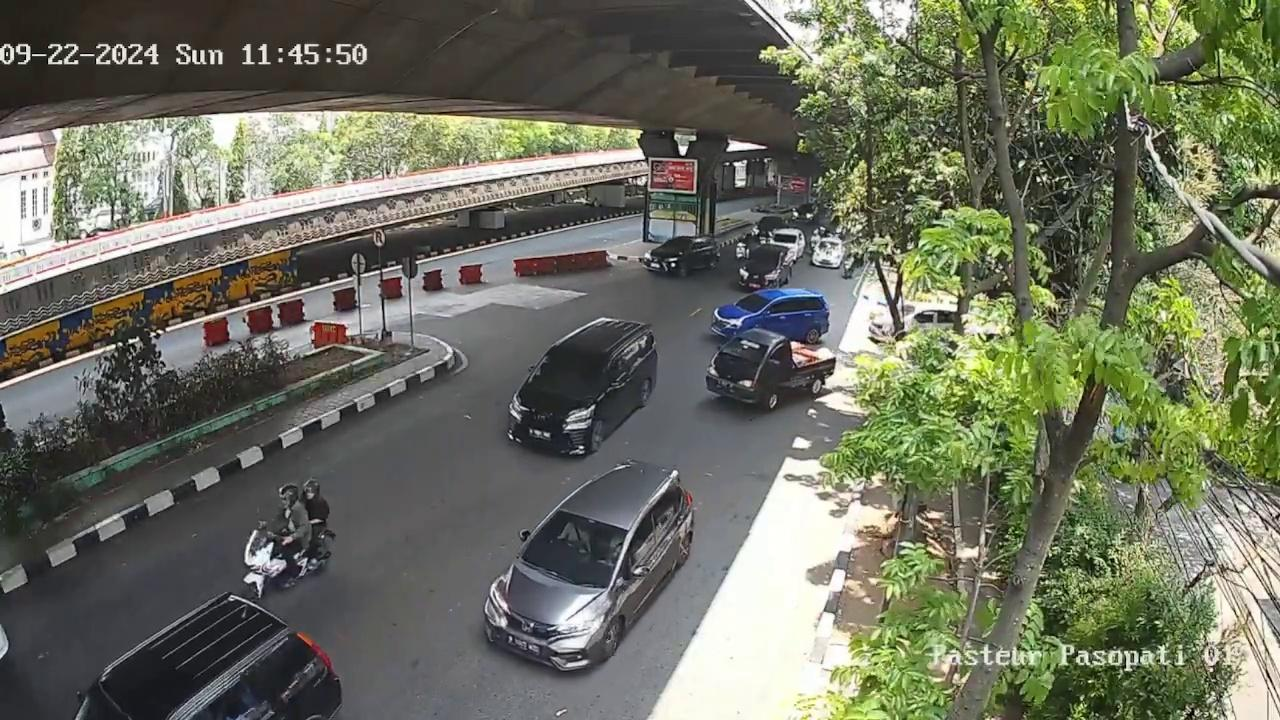pakai: (559, 521, 595, 560)
windshield: (524, 506, 632, 589), (527, 348, 603, 398), (718, 334, 767, 368), (735, 293, 772, 313)
